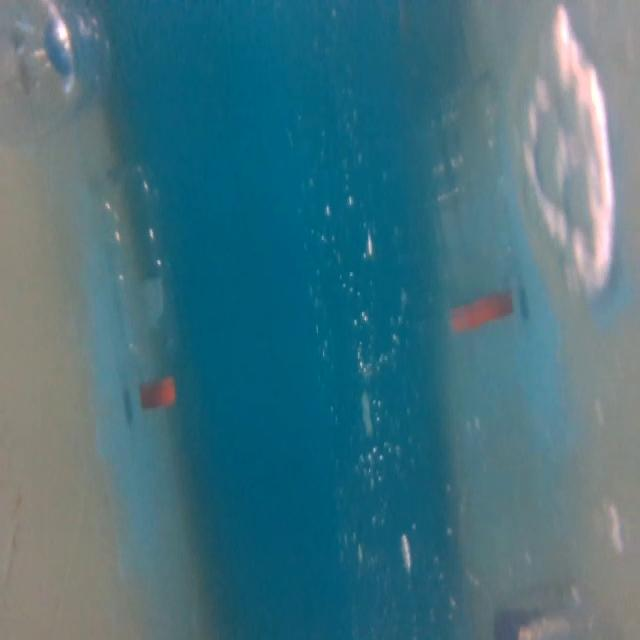plastic bottle: (88, 143, 198, 415)
